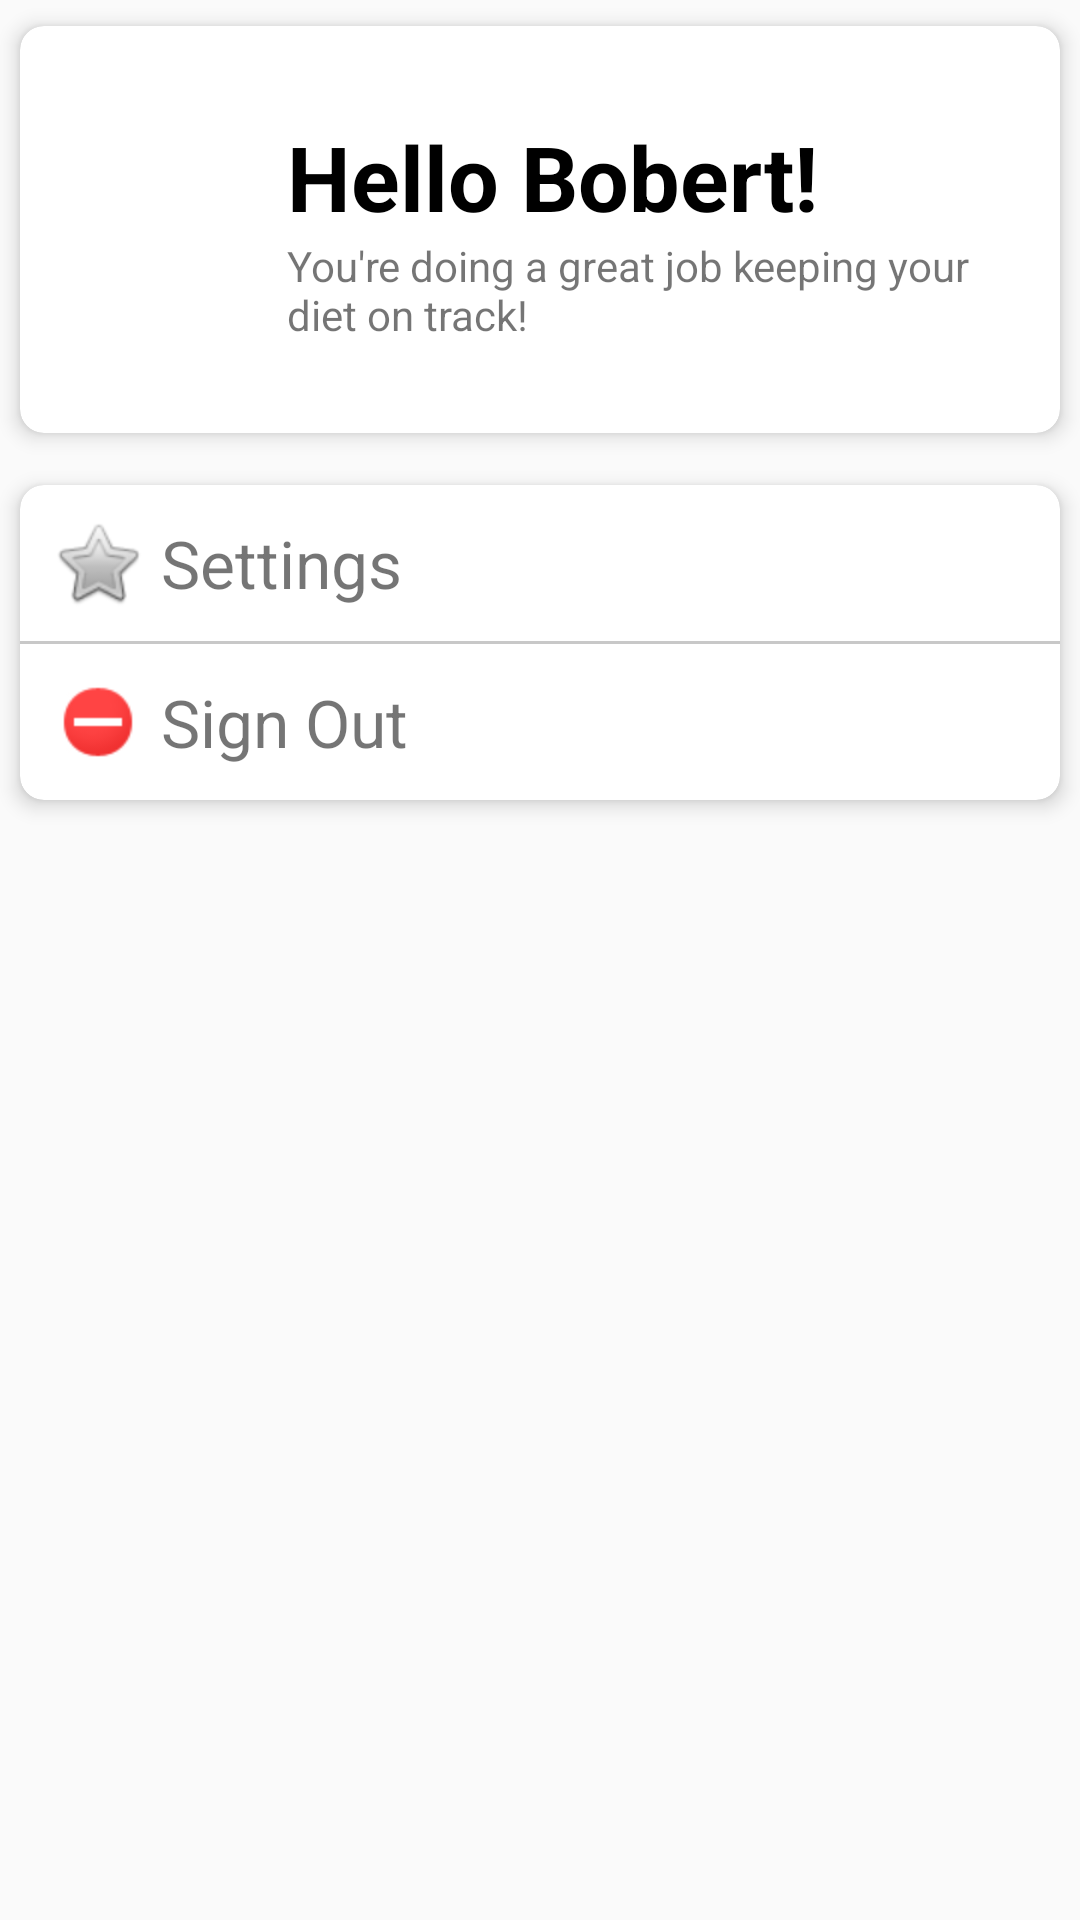

Icon click points for this 1080x1920 phone screenshot, format (x,y):
presence busy: (98,722)
star: (99,564)
